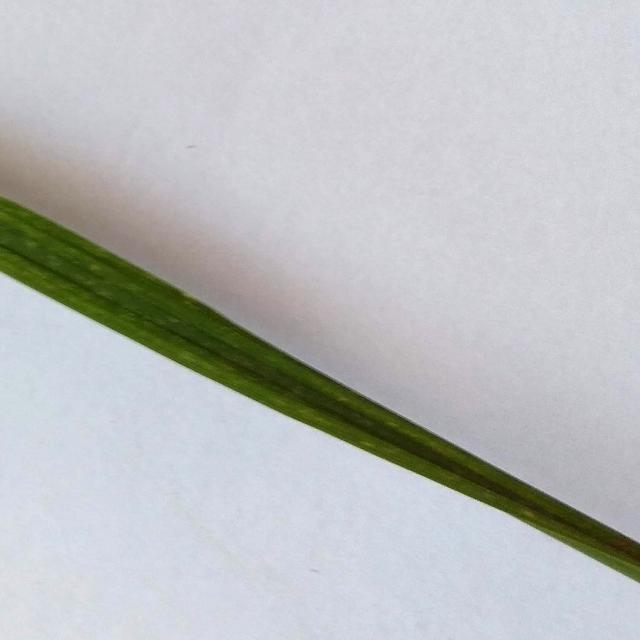Rice_Healthy: (0, 197, 640, 582)
